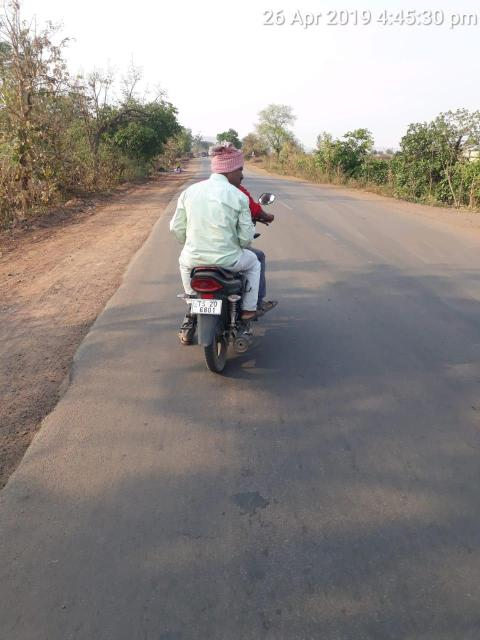motor: (177, 192, 278, 377)
non-helm: (208, 141, 247, 190)
